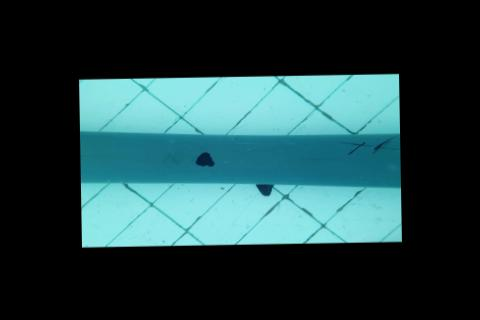kebocoran: (194, 149, 214, 167)
keretakan: (337, 135, 400, 155)
